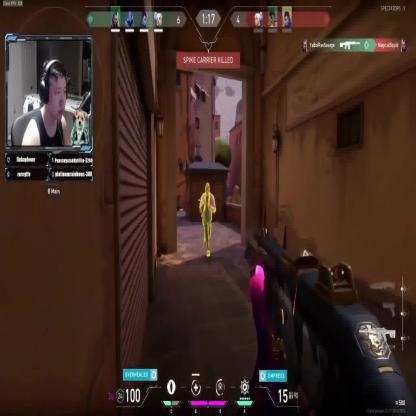enemy: (198, 182, 216, 257)
enemy_head: (205, 182, 210, 194)
